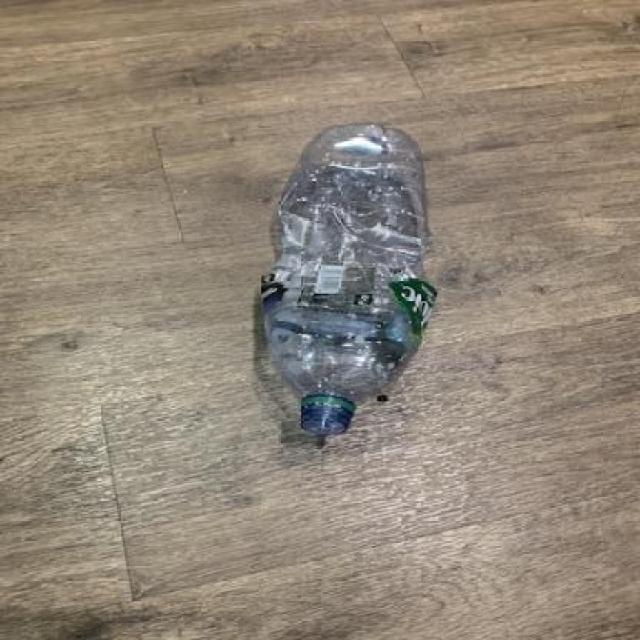trash: (257, 119, 435, 444)
